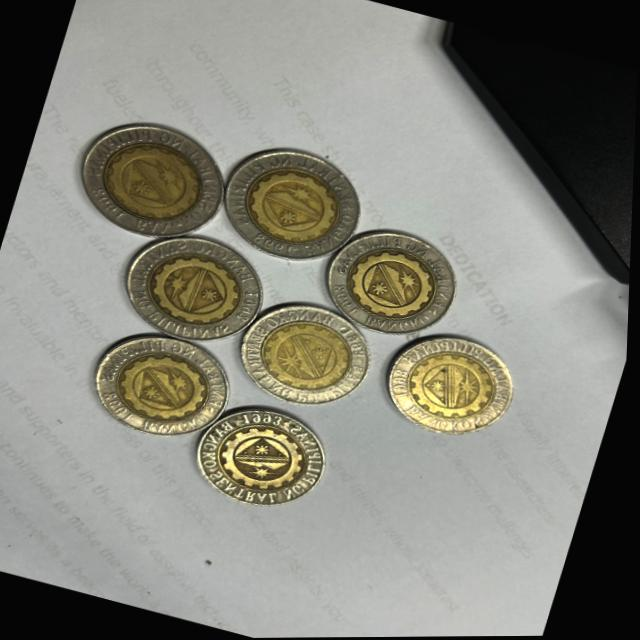10_Old_Back: (75, 118, 230, 245), (124, 229, 270, 351), (230, 144, 369, 265), (91, 329, 232, 441), (240, 296, 377, 408), (386, 322, 515, 439), (196, 399, 329, 512), (331, 228, 456, 335)
